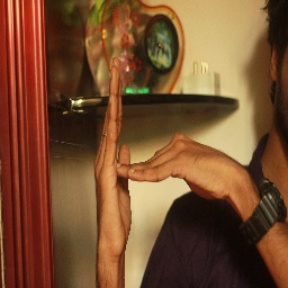Z: (82, 50, 227, 256)
